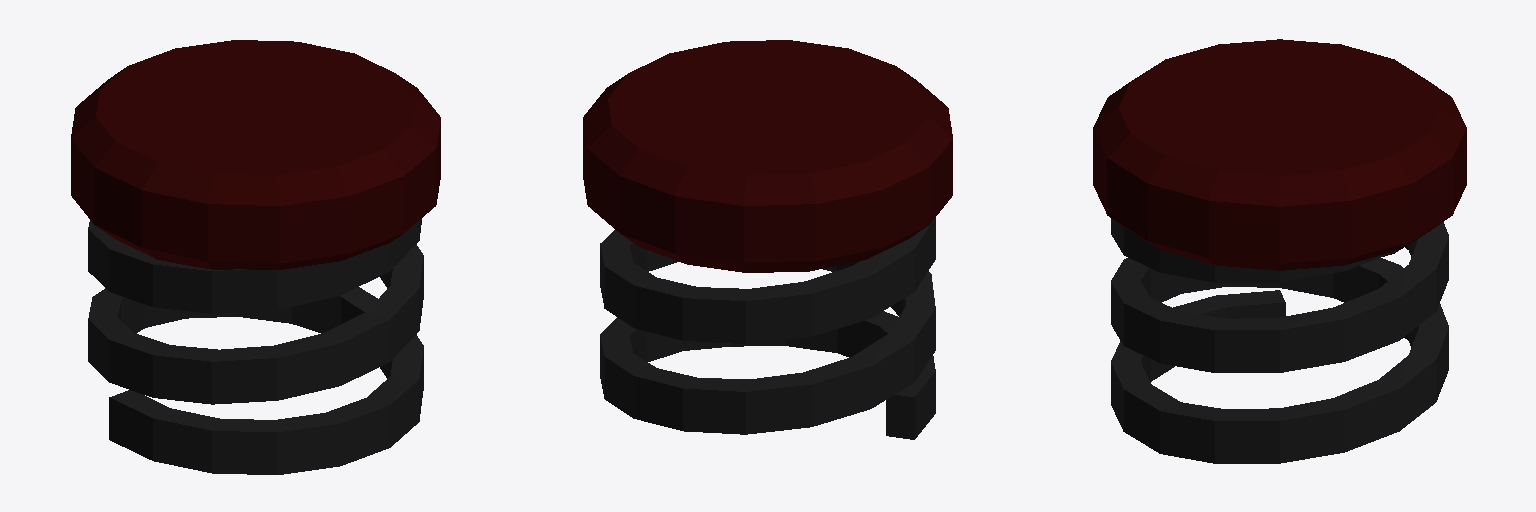
The model's file is Bouncer.obj.
3 renders of one model, left to right at view 1: azimuth 30°, elevation 25°; view 2: azimuth 150°, elevation 25°; view 3: azimuth 270°, elevation 25°, orthographic.
Visible parts, largest first — view 1: Bouncer_Plane; view 2: Bouncer_Plane; view 3: Bouncer_Plane.
Part boxes in pixels (x1,y1,x2,y2): Bouncer_Plane: (71, 40, 440, 474); Bouncer_Plane: (583, 40, 952, 439); Bouncer_Plane: (1093, 39, 1466, 463).
Size of the model in its own units: 2.21 by 1.94 by 2.21.